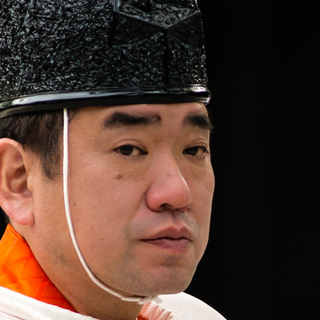eye: (104, 138, 151, 163), (177, 138, 213, 164)
